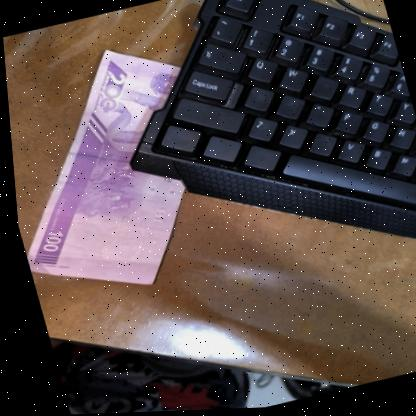one_hundred-back-vef: (2, 31, 234, 312)
